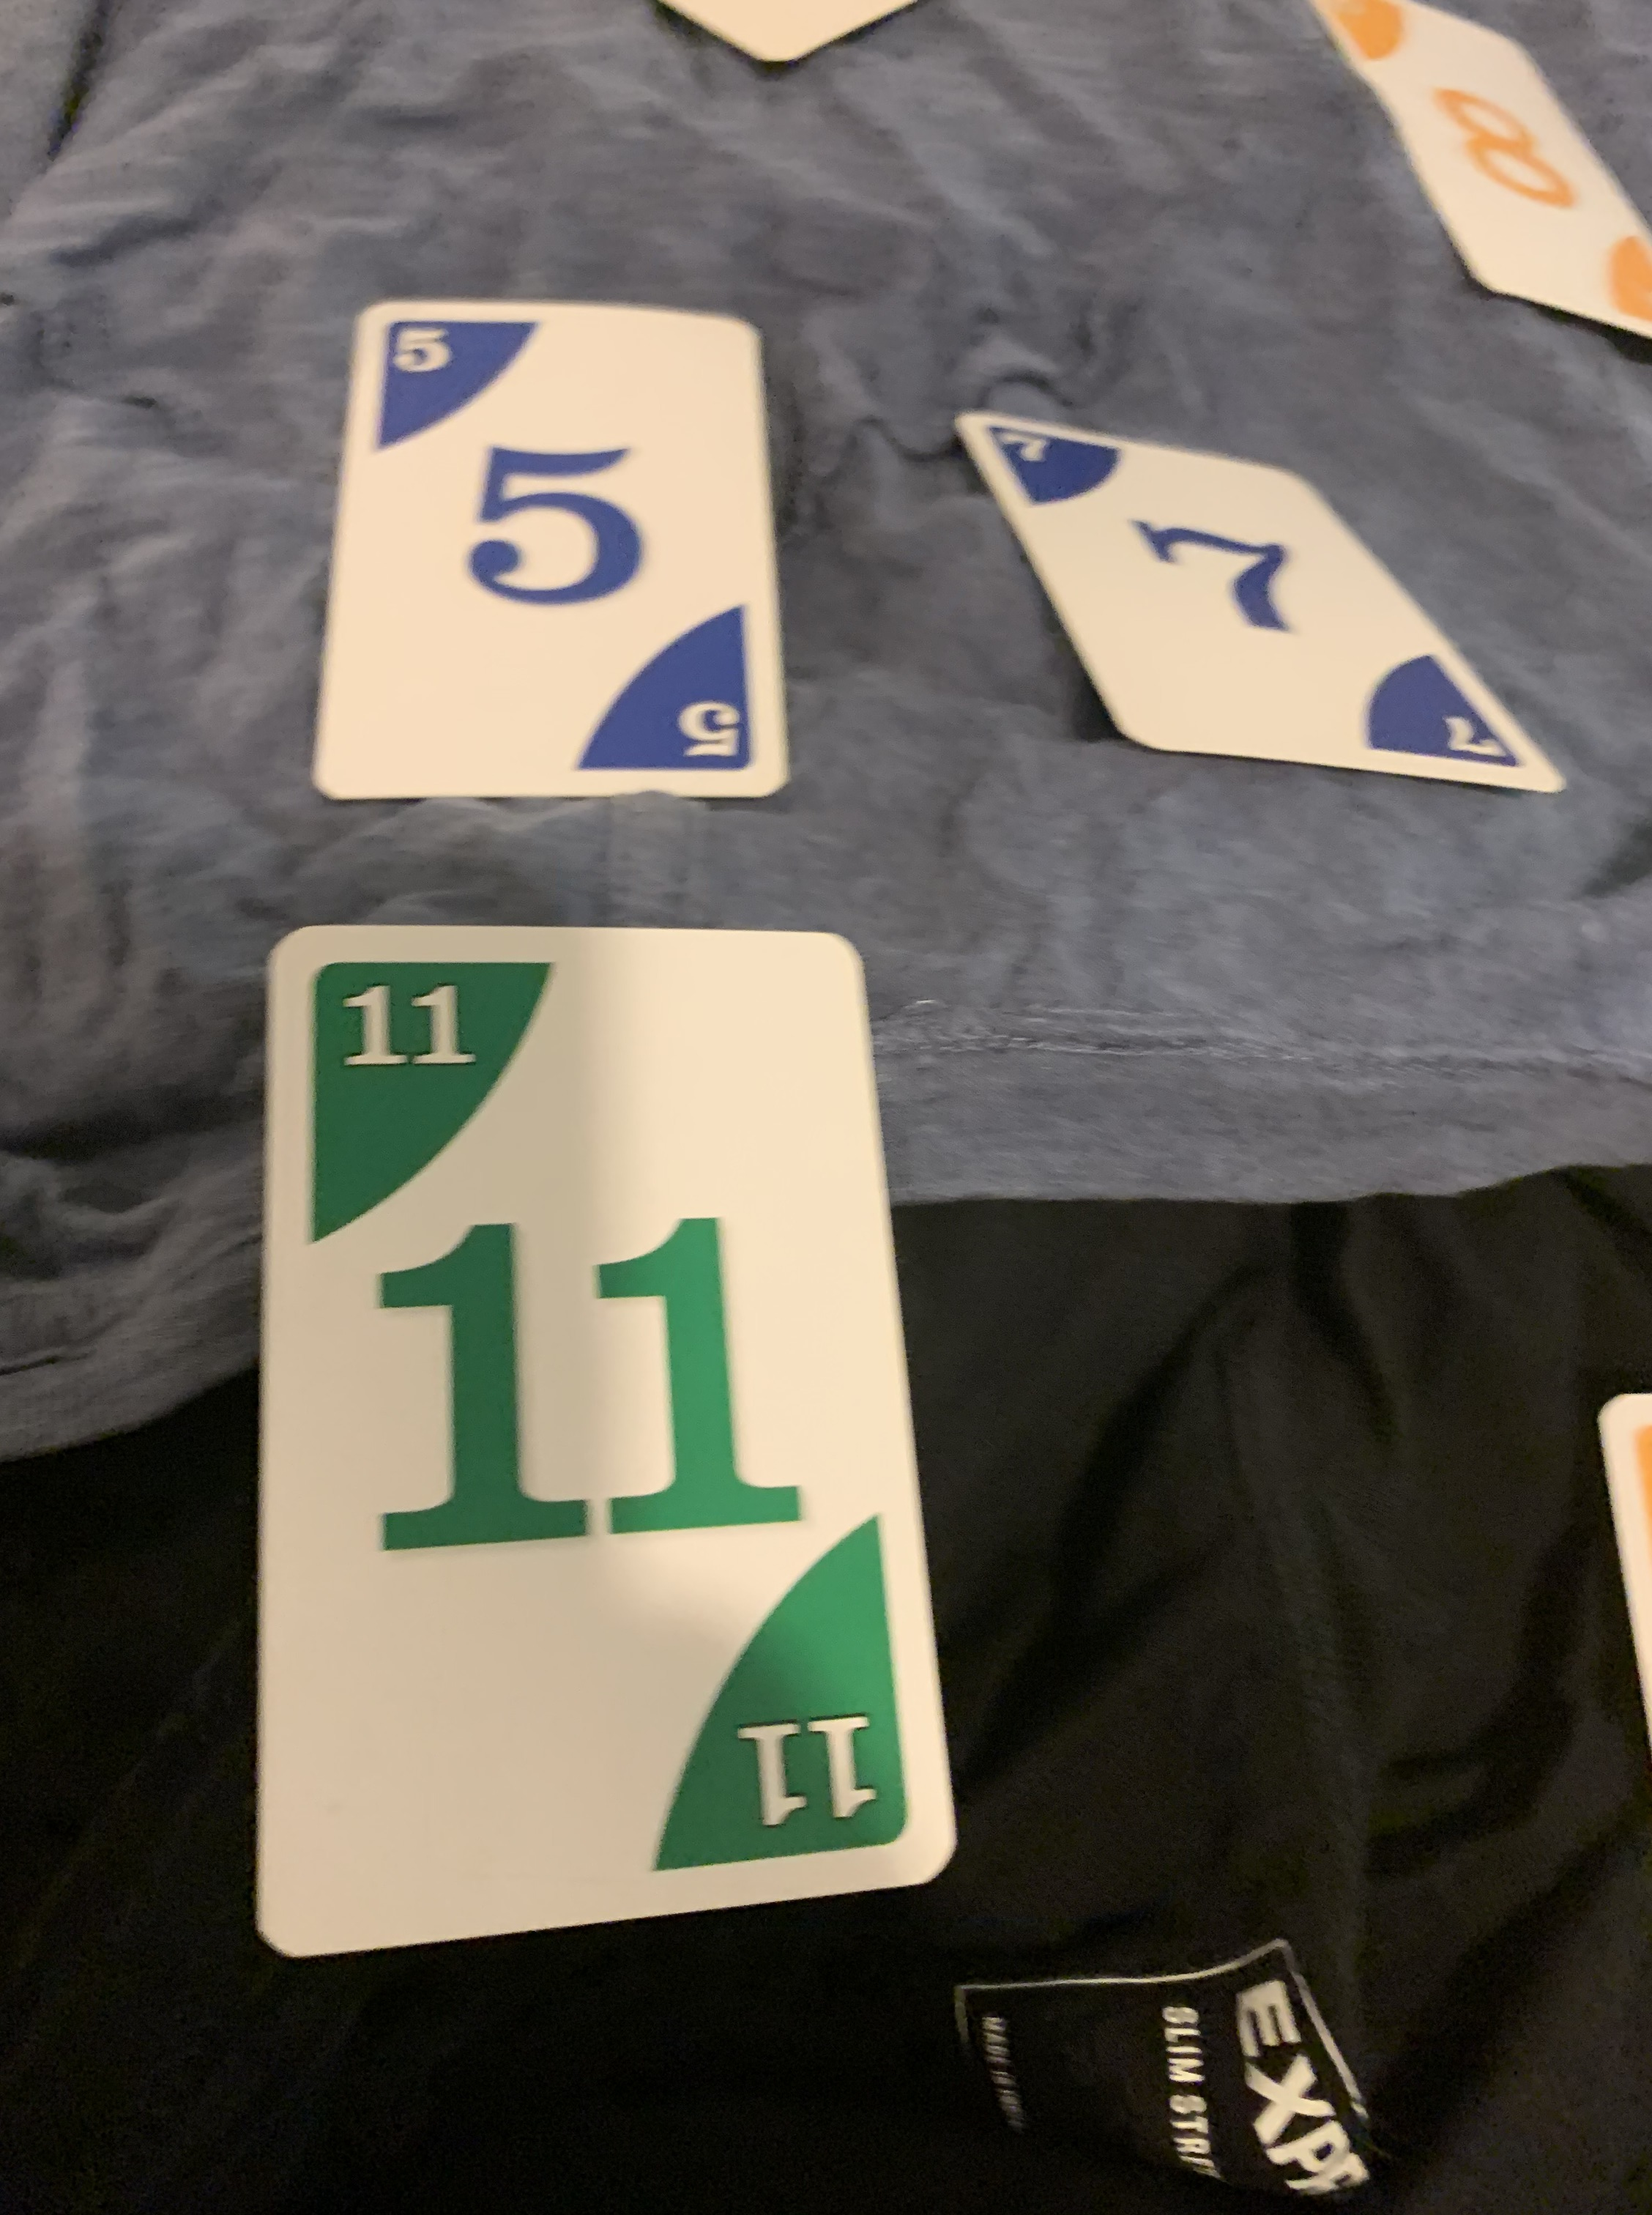eleven: (222, 915, 954, 1962)
five: (286, 292, 800, 816)
seven: (951, 406, 1570, 805)
